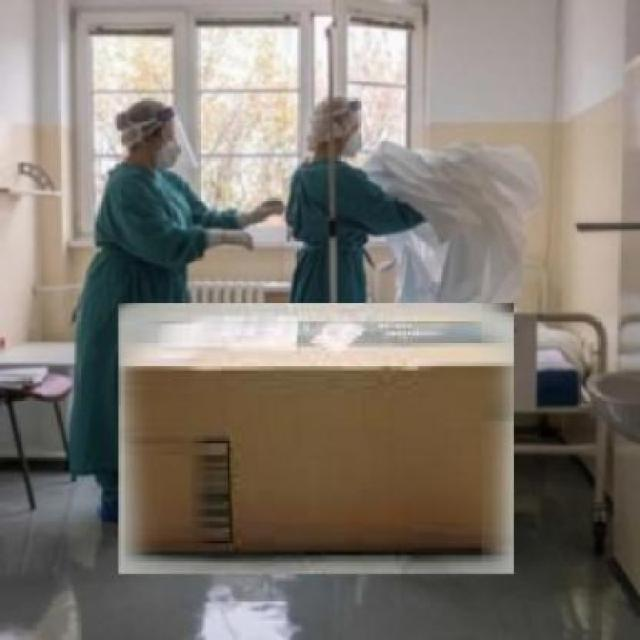box: (114, 300, 520, 578)
